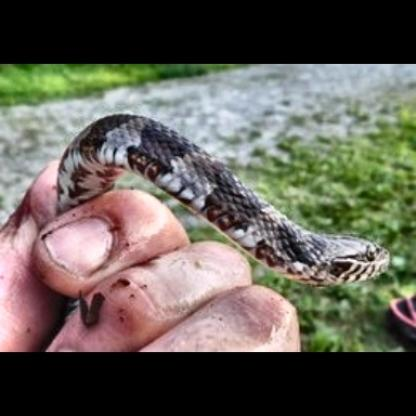Snake: (10, 106, 410, 352)
